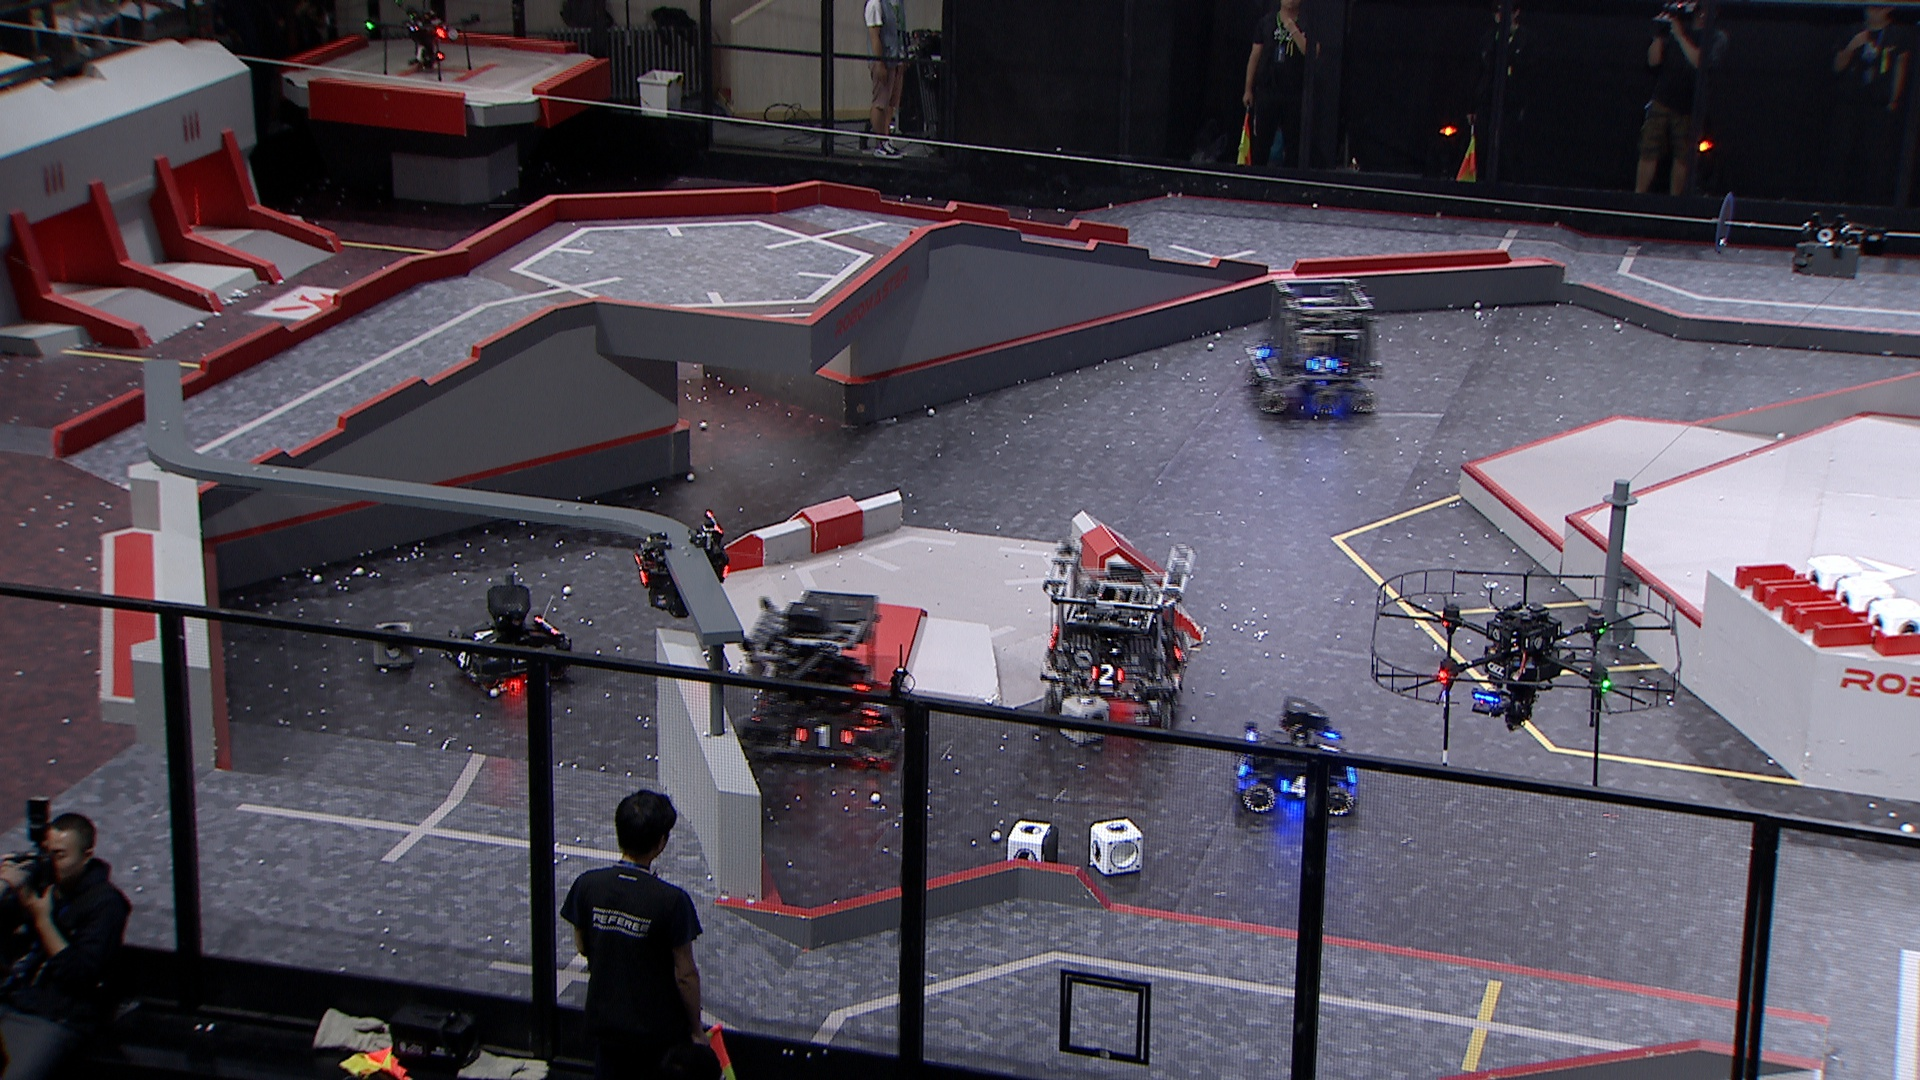armor: (793, 719, 855, 750), (858, 684, 893, 721), (1088, 661, 1127, 688), (467, 624, 502, 651), (447, 641, 475, 673), (1280, 773, 1313, 799), (1305, 353, 1338, 376), (632, 551, 651, 585), (1251, 335, 1273, 363), (1233, 752, 1253, 777), (1171, 636, 1187, 665)
car: (723, 585, 903, 770), (1033, 537, 1191, 735), (1240, 272, 1382, 418), (438, 572, 574, 702), (1230, 698, 1358, 818)
watcher: (629, 512, 733, 621)
